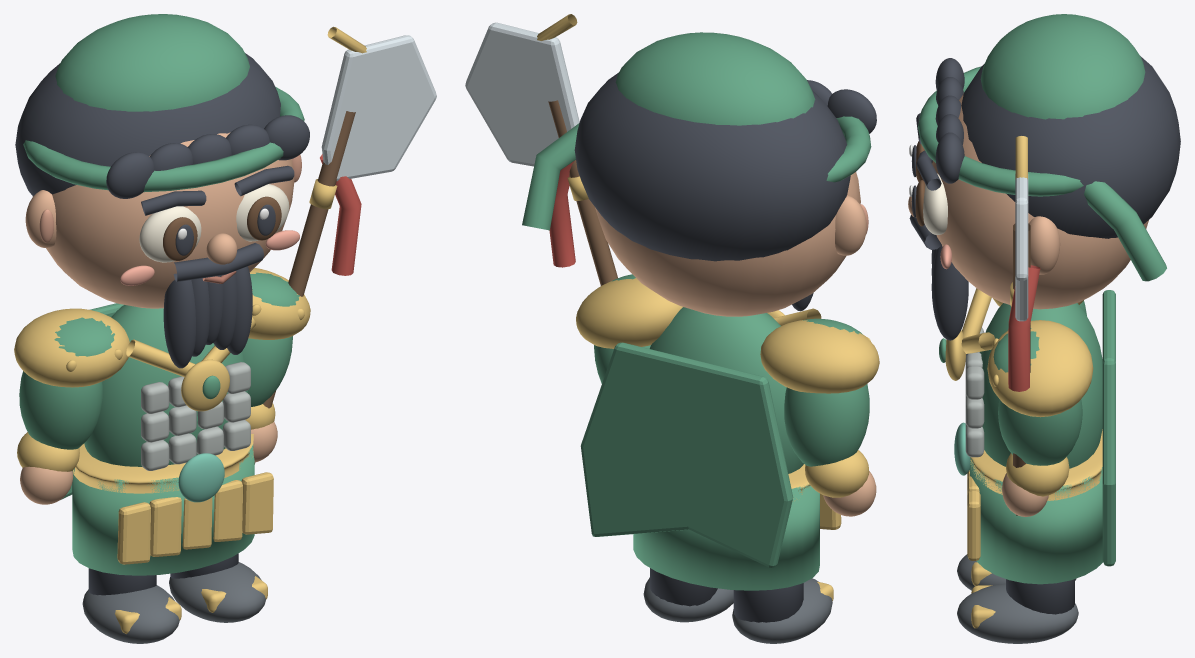
File: guanyu.fbx
The picture shows the model from 3 angles, left to right: view 1: azimuth 30°, elevation 25°; view 2: azimuth 150°, elevation 25°; view 3: azimuth 270°, elevation 25°; orthographic projection. The views are drawn at different scales.
Visible parts, largest first — view 1: green_cap, hair_mass, face, crescent_glaive, robe_skirt, body, headband, shoulder_gold.001, sleeve.001, boot, boot.001, belt (+46 smaller); view 2: cape, hair_mass, green_cap, face, crescent_glaive, robe_skirt, shoulder_gold.001, body, sleeve.001, shoulder_gold, headband_tail, boot (+10 smaller); view 3: hair_mass, green_cap, face, robe_skirt, shoulder_gold, body, boot.001, cape, sleeve, headband, headband_tail, beard_lock.004 (+27 smaller).
Part boxes in pixels (bbox=[...]): green_cap: bbox=[55, 14, 249, 111]; hair_mass: bbox=[15, 53, 280, 196]; face: bbox=[32, 132, 294, 308]; crescent_glaive: bbox=[321, 35, 436, 180]; robe_skirt: bbox=[72, 444, 254, 575]; body: bbox=[84, 305, 247, 466]; headband: bbox=[23, 86, 304, 192]; shoulder_gold.001: bbox=[14, 308, 129, 387]; sleeve.001: bbox=[19, 371, 102, 449]; boot: bbox=[82, 585, 179, 643]; boot.001: bbox=[169, 562, 265, 622]; belt: bbox=[73, 434, 253, 493]; cape: bbox=[580, 342, 793, 567]; hair_mass: bbox=[574, 72, 850, 261]; green_cap: bbox=[615, 32, 815, 125]; face: bbox=[595, 172, 860, 316]; crescent_glaive: bbox=[465, 22, 579, 166]; robe_skirt: bbox=[633, 485, 819, 590]; shoulder_gold.001: bbox=[760, 320, 879, 393]; body: bbox=[649, 307, 803, 473]; sleeve.001: bbox=[784, 384, 869, 466]; shoulder_gold: bbox=[576, 278, 682, 348]; headband_tail: bbox=[522, 123, 579, 230]; boot: bbox=[732, 578, 832, 643]; hair_mass: bbox=[961, 56, 1180, 238]; green_cap: bbox=[980, 14, 1145, 119]; face: bbox=[932, 93, 1148, 309]; robe_skirt: bbox=[969, 457, 1102, 584]; shoulder_gold: bbox=[987, 320, 1093, 417]; body: bbox=[979, 303, 1102, 468]; boot.001: bbox=[957, 583, 1078, 643]; cape: bbox=[1102, 290, 1115, 566]; sleeve: bbox=[998, 399, 1082, 465]; headband: bbox=[918, 66, 1083, 196]; headband_tail: bbox=[1084, 181, 1166, 281]; beard_lock.004: bbox=[931, 245, 968, 340].
Bounding box in the file's own units: 1.79 × 2.45 × 1.03.
